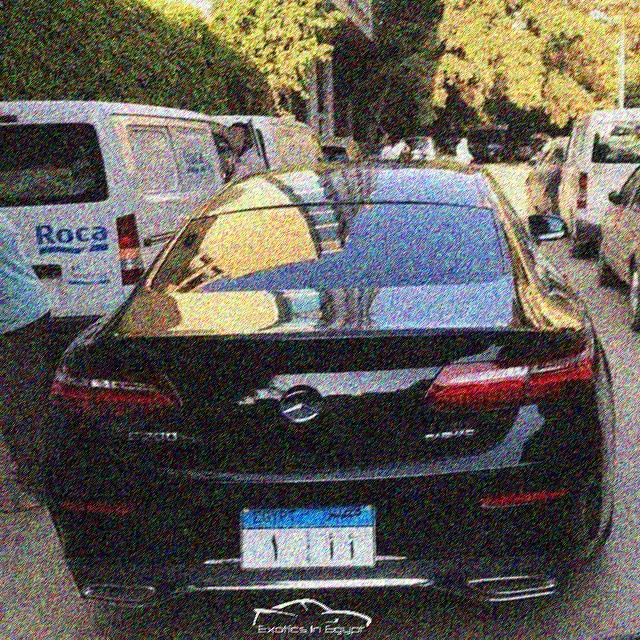License Plate: (236, 501, 380, 573)
